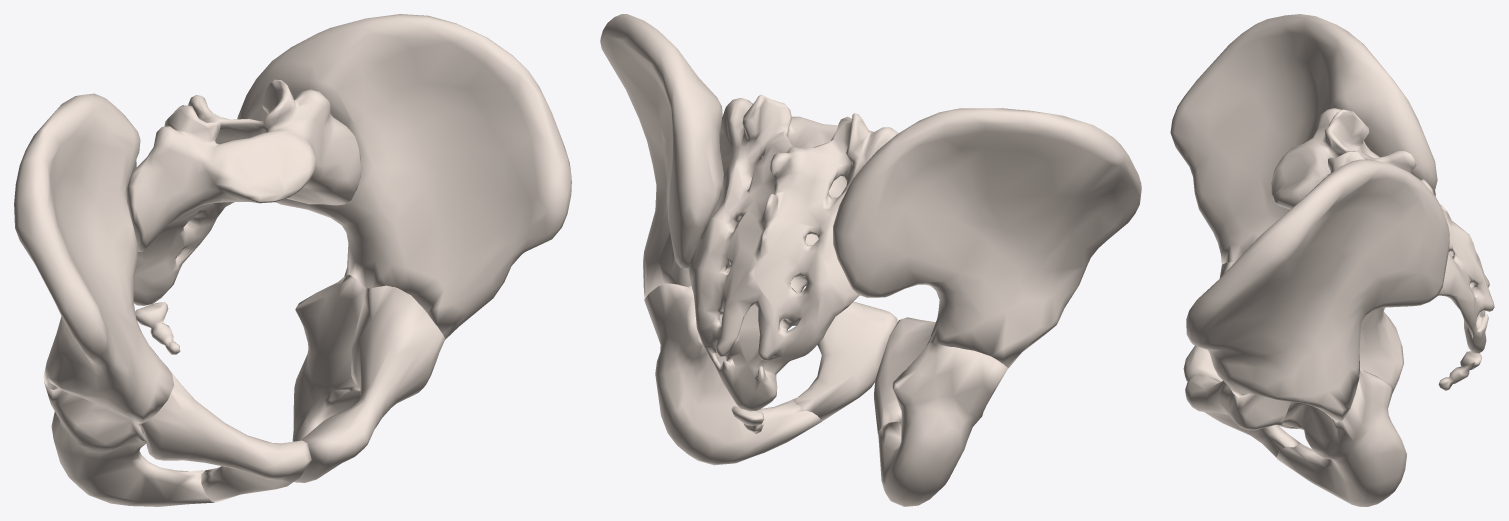
File: vh_m_pelvis-20.glb
3 renders of one model, left to right at view 1: azimuth 30°, elevation 25°; view 2: azimuth 150°, elevation 25°; view 3: azimuth 270°, elevation 25°, orthographic. The views are drawn at different scales.
Visible parts, largest first — view 1: VH_M_ilium_compact_bone_L, VH_M_ilium_compact_bone_R, VH_M_sacrum, VH_M_pubis_compact_bone_L, VH_M_ischium_compact_bone_R, VH_M_pubis_compact_bone_R, VH_M_ischium_compact_bone_L, VH_M_coccyx; view 2: VH_M_ilium_compact_bone_R, VH_M_sacrum, VH_M_ilium_compact_bone_L, VH_M_ischium_compact_bone_L, VH_M_ischium_compact_bone_R, VH_M_pubis_compact_bone_L, VH_M_pubis_compact_bone_R; view 3: VH_M_ilium_compact_bone_L, VH_M_ilium_compact_bone_R, VH_M_ischium_compact_bone_L, VH_M_sacrum, VH_M_pubis_compact_bone_L, VH_M_ischium_compact_bone_R, VH_M_pubis_compact_bone_R, VH_M_coccyx.
Part boxes in pixels (x1=…): VH_M_ilium_compact_bone_L: x1=237, y1=14, x2=571, y2=339; VH_M_ilium_compact_bone_R: x1=14, y1=93, x2=174, y2=423; VH_M_sacrum: x1=126, y1=79, x2=360, y2=305; VH_M_pubis_compact_bone_L: x1=294, y1=285, x2=445, y2=482; VH_M_ischium_compact_bone_R: x1=44, y1=381, x2=214, y2=506; VH_M_pubis_compact_bone_R: x1=137, y1=369, x2=311, y2=502; VH_M_ischium_compact_bone_L: x1=292, y1=274, x2=366, y2=441; VH_M_coccyx: x1=135, y1=302, x2=180, y2=354; VH_M_ilium_compact_bone_R: x1=833, y1=108, x2=1141, y2=368; VH_M_sacrum: x1=688, y1=94, x2=898, y2=411; VH_M_ilium_compact_bone_L: x1=600, y1=14, x2=723, y2=298; VH_M_ischium_compact_bone_L: x1=644, y1=268, x2=821, y2=465; VH_M_ischium_compact_bone_R: x1=878, y1=342, x2=1007, y2=506; VH_M_pubis_compact_bone_L: x1=792, y1=286, x2=897, y2=421; VH_M_pubis_compact_bone_R: x1=874, y1=317, x2=935, y2=434; VH_M_ilium_compact_bone_L: x1=1186, y1=159, x2=1449, y2=422; VH_M_ilium_compact_bone_R: x1=1170, y1=14, x2=1437, y2=265; VH_M_ischium_compact_bone_L: x1=1276, y1=368, x2=1406, y2=506; VH_M_sacrum: x1=1271, y1=108, x2=1494, y2=353; VH_M_pubis_compact_bone_L: x1=1185, y1=374, x2=1300, y2=457; VH_M_ischium_compact_bone_R: x1=1287, y1=307, x2=1403, y2=428; VH_M_pubis_compact_bone_R: x1=1183, y1=261, x2=1291, y2=427; VH_M_coccyx: x1=1438, y1=351, x2=1481, y2=390.
Bounding box in the file's own units: 0.2835 × 0.2186 × 0.1729.
